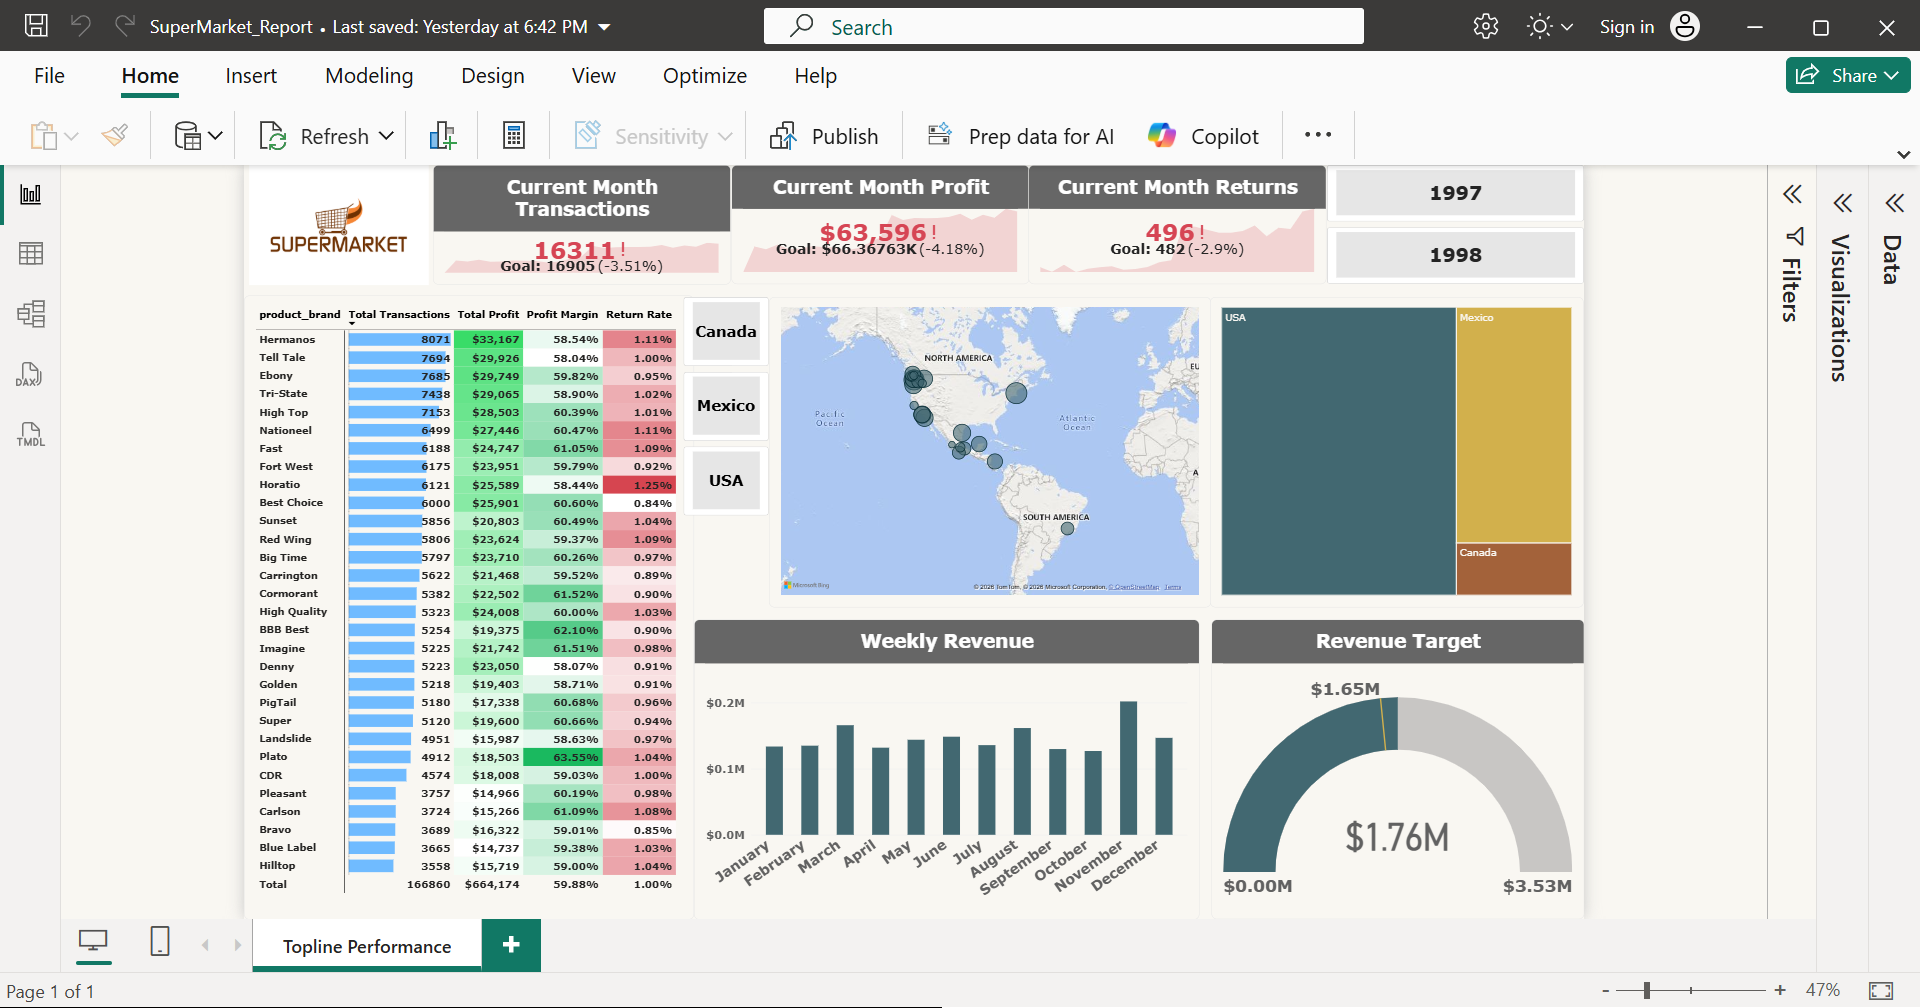

Layout of this report page (visuals, bound fields, positions):
{"tool":"powerbi","page":{"name":"Topline Performance","canvas":[1920,1080],"ordinal":0},"visuals":[{"type":"image","box":[0,0,272,171.8],"z":0},{"type":"kpi","title":"Current Month Transactions","fields":{"Goal":["Measure.Last Month Transactions"],"Indicator":["Measure.Total Transactions"],"TrendLine":["Calendar.Start of Month"]},"box":[271.1,0,426.7,171.1],"z":1000},{"type":"kpi","title":"Current Month Profit","fields":{"Goal":["Measure.Last Month Profit"],"Indicator":["Measure.Total Profit"],"TrendLine":["Calendar.Start of Month"]},"box":[697.6,0,426.8,170.7],"z":2000},{"type":"kpi","title":"Current Month Returns","fields":{"Goal":["Measure.Last Month Returns"],"Indicator":["Measure.Total Returns"],"TrendLine":["Calendar.Start of Month"]},"box":[1124.4,0,426.8,170.7],"z":3000},{"type":"pivotTable","fields":{"Rows":["Products.product_brand"],"Values":["Measure.Total Transactions","Measure.Total Profit","Measure.Profit Margin","Measure.Return Rate"]},"box":[0,186.9,644.6,893.8],"z":4000},{"type":"advancedSlicerVisual","fields":{"Values":["Stores.store_country"]},"box":[629.5,189.1,122.5,315.8],"z":5000},{"type":"map","fields":{"Category":["Stores.store_city"],"Size":["Measure.Total Transactions"]},"box":[751.1,188.9,633.3,444.4],"z":6000},{"type":"treemap","fields":{"Group":["Stores.store_country Hierarchy.store_country","Stores.store_country Hierarchy.store_state","Stores.store_country Hierarchy.store_city"],"Values":["Measure.Total Transactions"]},"box":[1384.4,188.9,535.6,444.4],"z":7000},{"type":"columnChart","title":"Weekly Revenue","fields":{"Category":["Calendar.Start of Week.Variation.Date Hierarchy.Month"],"Y":["Measure.Total Revenue"]},"box":[644.6,651,724.1,429.7],"z":8000},{"type":"gauge","title":"Revenue Target","fields":{"TargetValue":["Measure.Last Month Revenue"],"Y":["Measure.Total Revenue"]},"box":[1385.4,651.2,534.1,429.3],"z":9000},{"type":"advancedSlicerVisual","fields":{"Values":["Calendar.Year"]},"box":[1551.2,0,368.3,170.7],"z":10000}]}

Visuals, with their boxes on the page's 1920x1080 design canvas (x1, y1, x2, y2). These are canvas units, not pixel positions in the 1920x1008 screenshot, which may show the page scaled, cropped or inside an application window:
image: left=0, top=0, right=272, bottom=172
"Current Month Transactions" kpi: left=271, top=0, right=698, bottom=171
"Current Month Profit" kpi: left=698, top=0, right=1124, bottom=171
"Current Month Returns" kpi: left=1124, top=0, right=1551, bottom=171
pivotTable - Products.product_brand x Measure.Total Transactions: left=0, top=187, right=645, bottom=1081
advancedSlicerVisual - Stores.store_country: left=630, top=189, right=752, bottom=505
map - Stores.store_city x Measure.Total Transactions: left=751, top=189, right=1384, bottom=633
treemap - Stores.store_country Hierarchy.store_country x Stores.store_country Hierarchy.store_state: left=1384, top=189, right=1920, bottom=633
"Weekly Revenue" columnChart: left=645, top=651, right=1369, bottom=1081
"Revenue Target" gauge: left=1385, top=651, right=1920, bottom=1080
advancedSlicerVisual - Calendar.Year: left=1551, top=0, right=1920, bottom=171
